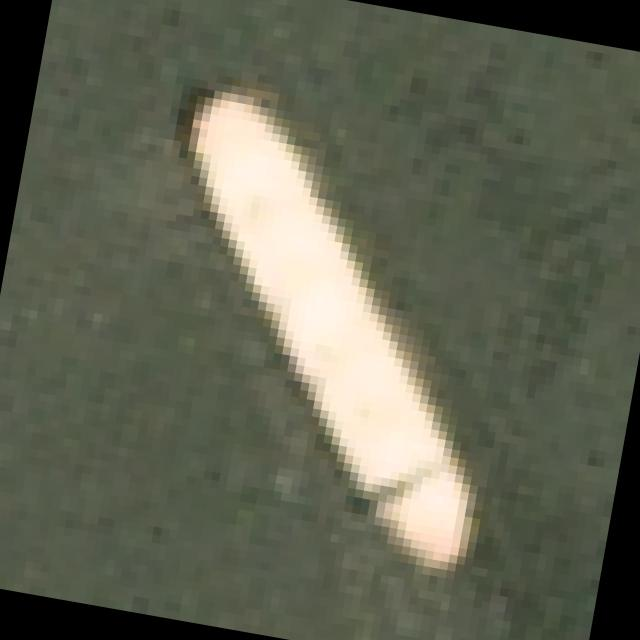ship: (89, 42, 586, 611)
